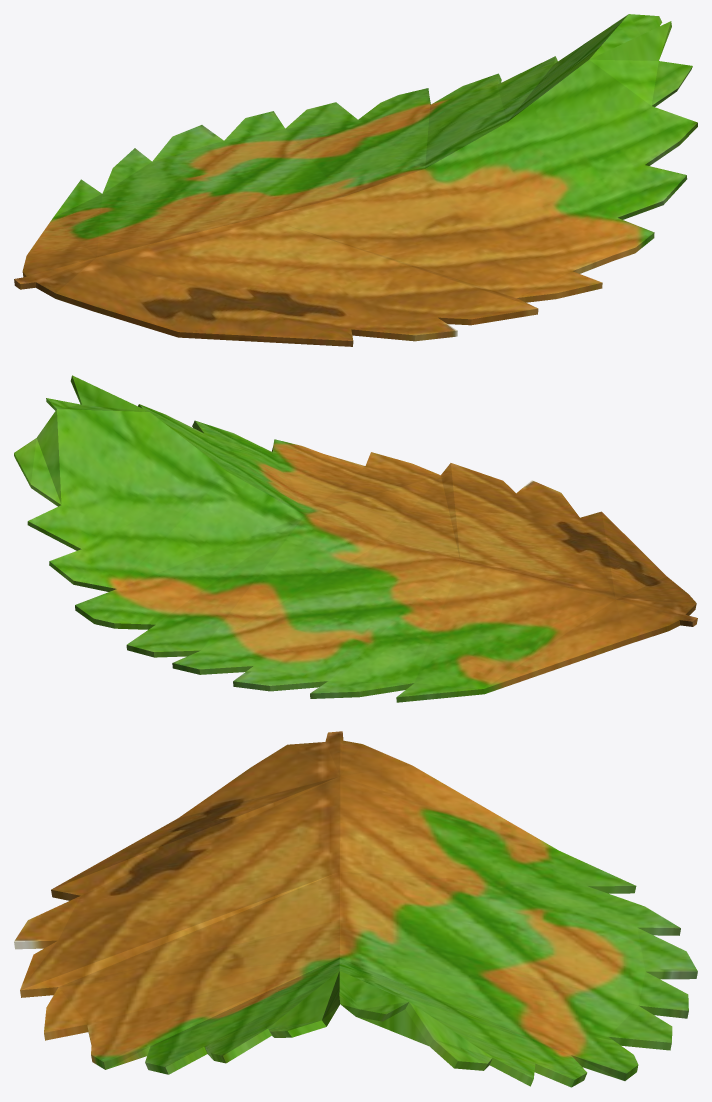
Rendered from leaf2_s3.dae.
The picture shows the model from 3 angles, top to bottom: view 1: azimuth 30°, elevation 25°; view 2: azimuth 150°, elevation 25°; view 3: azimuth 270°, elevation 25°; orthographic projection. The views are drawn at different scales.
Visible parts, largest first — view 1: Plane; view 2: Plane; view 3: Plane.
Boxes of the visible parts, x1,y1,x2,y2 form: Plane: (14,14,697,346); Plane: (14,375,697,702); Plane: (14,731,697,1087).
Size of the model in its own units: 0.1377 by 0.1018 by 0.0278.
1 material, 1 textured.
